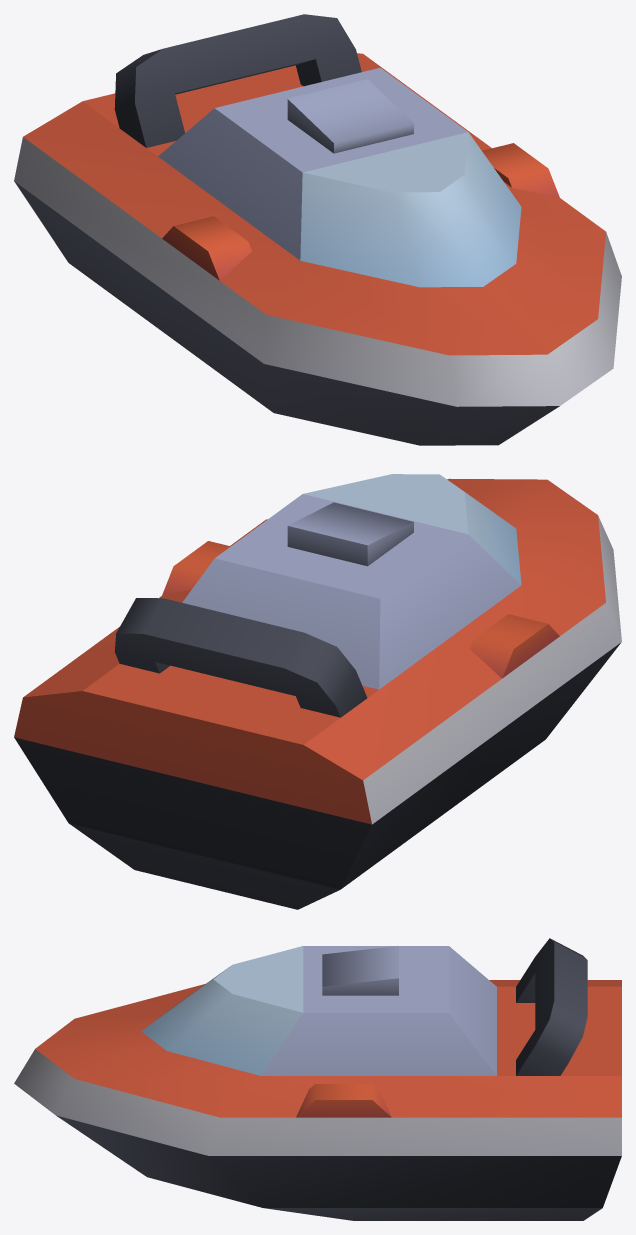
The model's file is boat-speed-c.glb.
The picture shows the model from 3 angles, top to bottom: view 1: azimuth 30°, elevation 25°; view 2: azimuth 150°, elevation 25°; view 3: azimuth 270°, elevation 25°; orthographic projection. The views are drawn at different scales.
Parts seen in each view (by area): view 1: boat-speed-c; view 2: boat-speed-c; view 3: boat-speed-c.
Part boxes in pixels (x1,y1,x2,y2): boat-speed-c: (14,14,621,445); boat-speed-c: (14,474,621,909); boat-speed-c: (14,938,621,1220).
Size of the model in its own units: 1.78 by 1.3 by 3.17.
